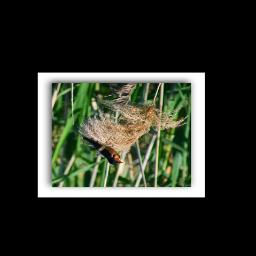Swallow: (78, 133, 125, 166)
